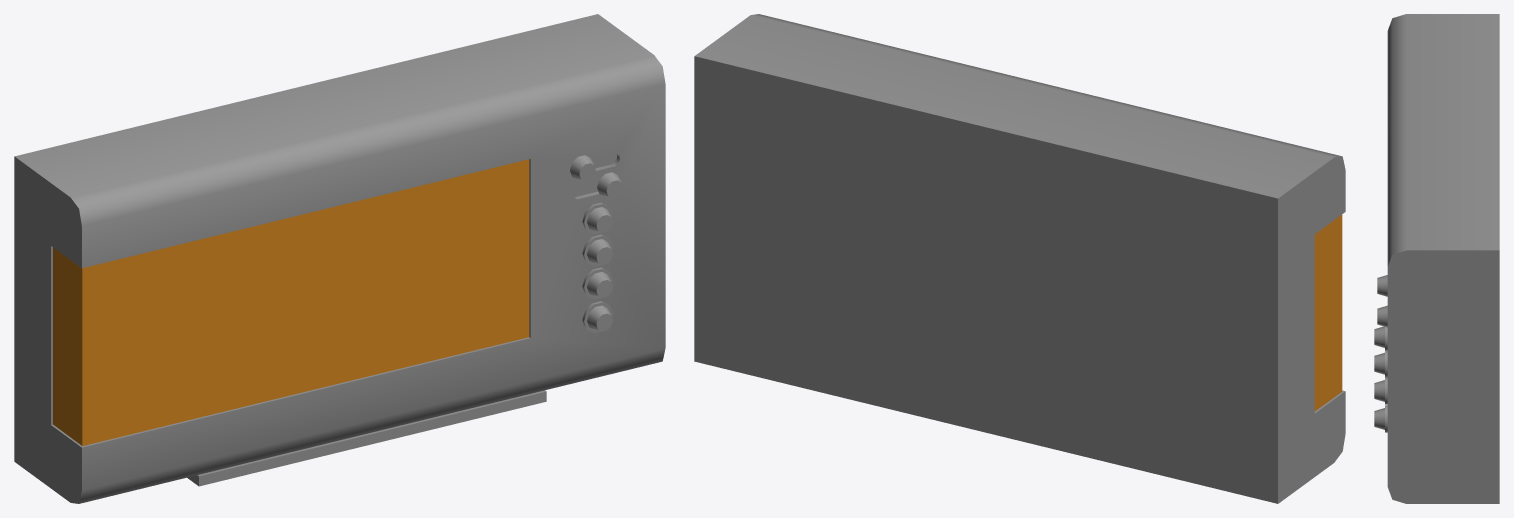
The model's file is SM_Clock_02.FBX.
3 views of the same model, side by side, from view 1: azimuth 30°, elevation 25°; view 2: azimuth 150°, elevation 25°; view 3: azimuth 270°, elevation 25° (orthographic). The views are drawn at different scales.
Parts seen in each view (by area): view 1: SM_Clock_02; view 2: SM_Clock_02; view 3: SM_Clock_02.
Boxes of the visible parts, bbox=[...] form: SM_Clock_02: bbox=[14, 14, 665, 503]; SM_Clock_02: bbox=[694, 14, 1345, 503]; SM_Clock_02: bbox=[1374, 14, 1499, 503].
Size of what is drawn, in the model's own units: 22.96 by 11.86 by 5.14.
